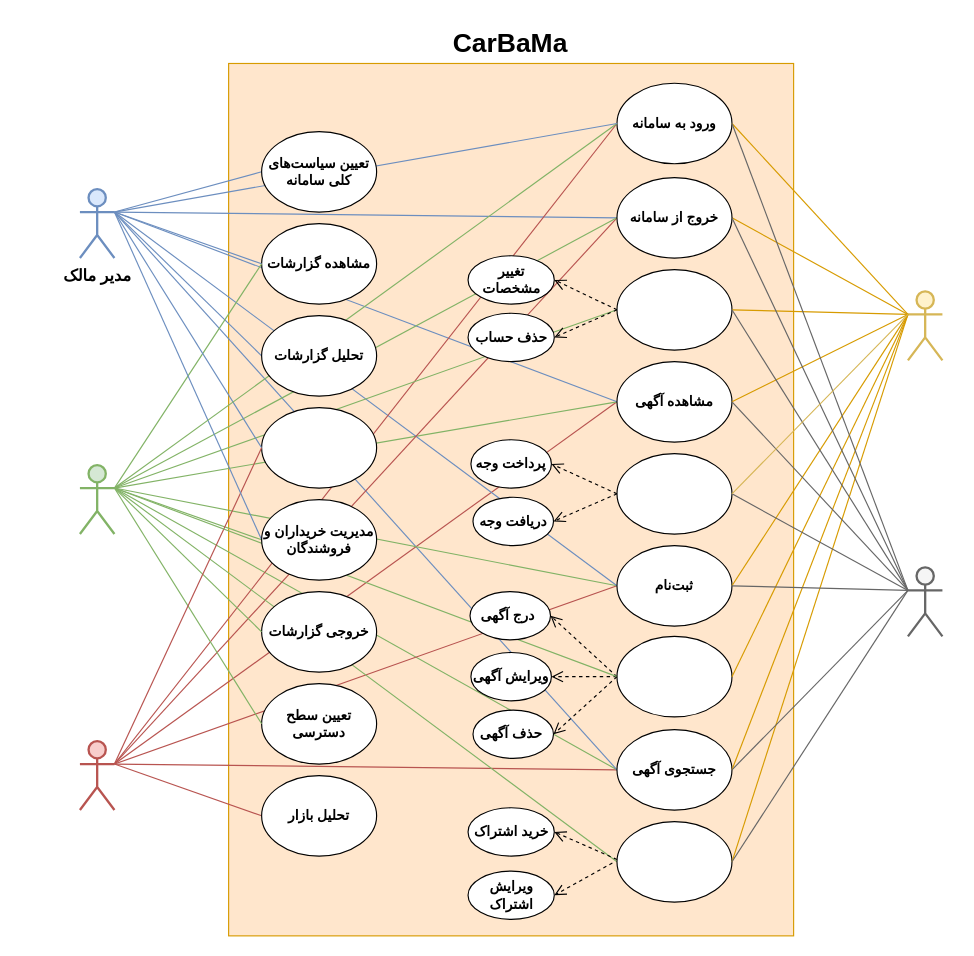
This 974x956 diagram has some shape labels left out. Each missing label, with the box of its shape:
ادمین سامانه: (78, 463, 115, 535)
خدمات وجه: (616, 452, 732, 534)
خریدار: (906, 566, 943, 637)
فروشنده: (906, 290, 943, 361)
مدیریت آگهی: (616, 635, 732, 717)
مدیریت اشتراک: (616, 820, 732, 902)
مدیریت تراکنش‌ها: (260, 406, 377, 488)
مدیریت حساب کاربری: (616, 268, 732, 350)
کارشناس فنی و فروش: (78, 739, 115, 811)
